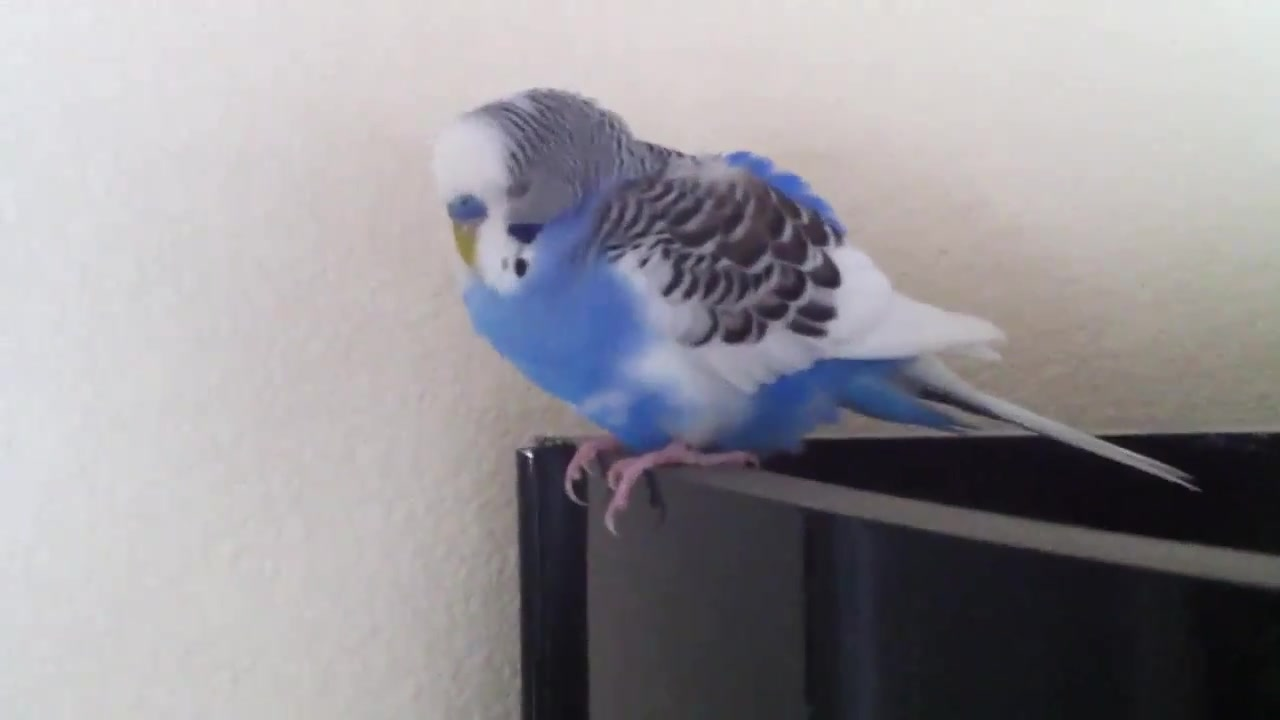bird: (434, 90, 1204, 542)
